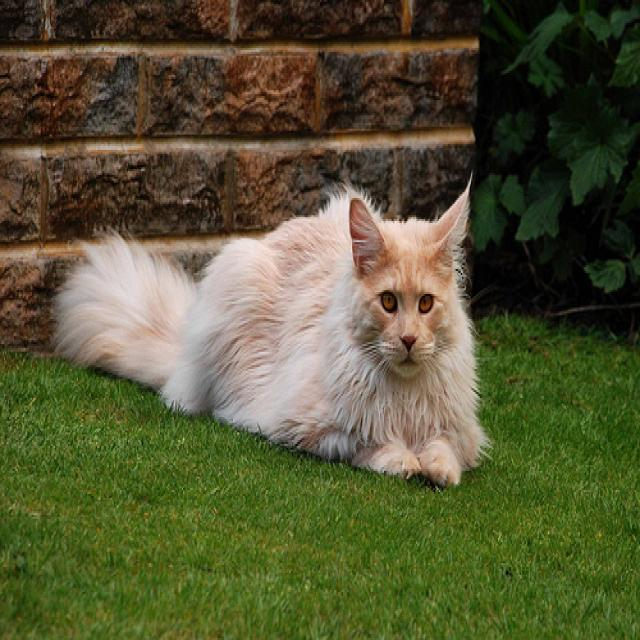Maine_Coon: (335, 184, 475, 381)
